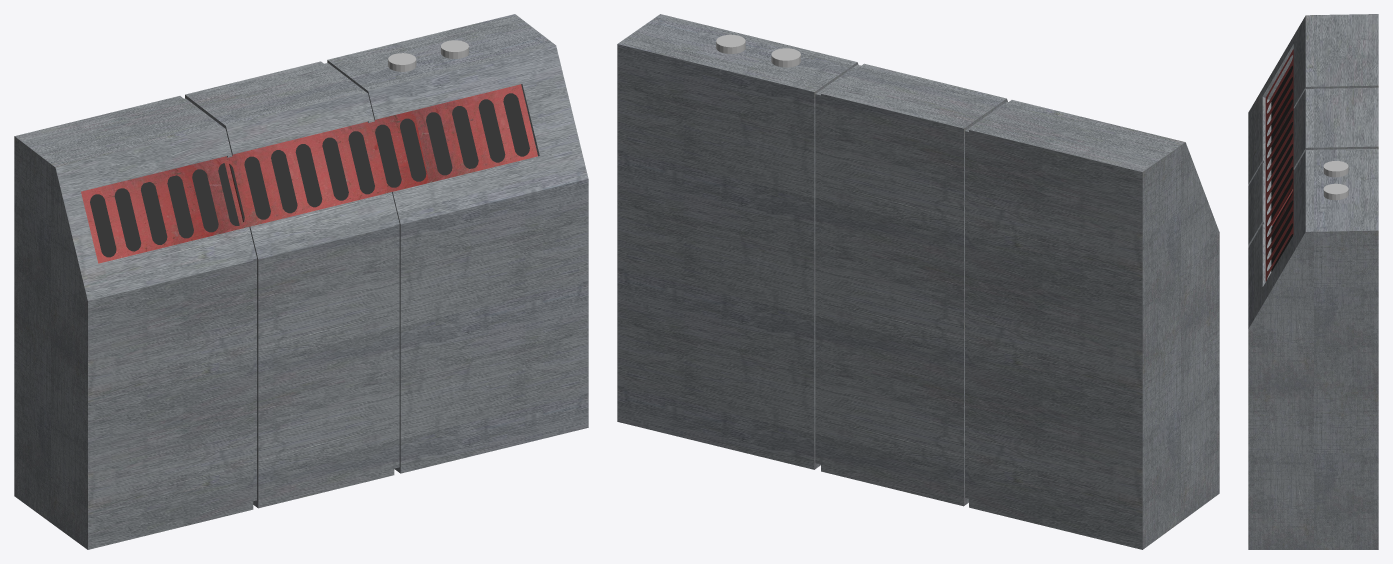
The model's file is heater.glb.
3 views of the same model, side by side, from view 1: azimuth 30°, elevation 25°; view 2: azimuth 150°, elevation 25°; view 3: azimuth 270°, elevation 25° (orthographic). The views are drawn at different scales.
Visible parts, largest first — view 1: Plane.001; view 2: Plane.001; view 3: Plane.001.
Part boxes in pixels (box(x1,y1,x2,y2)): Plane.001: box(14, 14, 588, 549); Plane.001: box(617, 14, 1219, 549); Plane.001: box(1248, 14, 1378, 549).
Size of the model in its own units: 1.98 by 1.38 by 0.5022.
4 materials, 2 textured.
